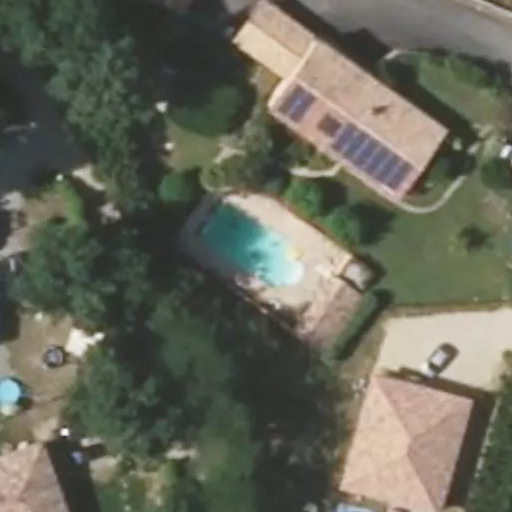pool: (200, 230, 322, 262)
